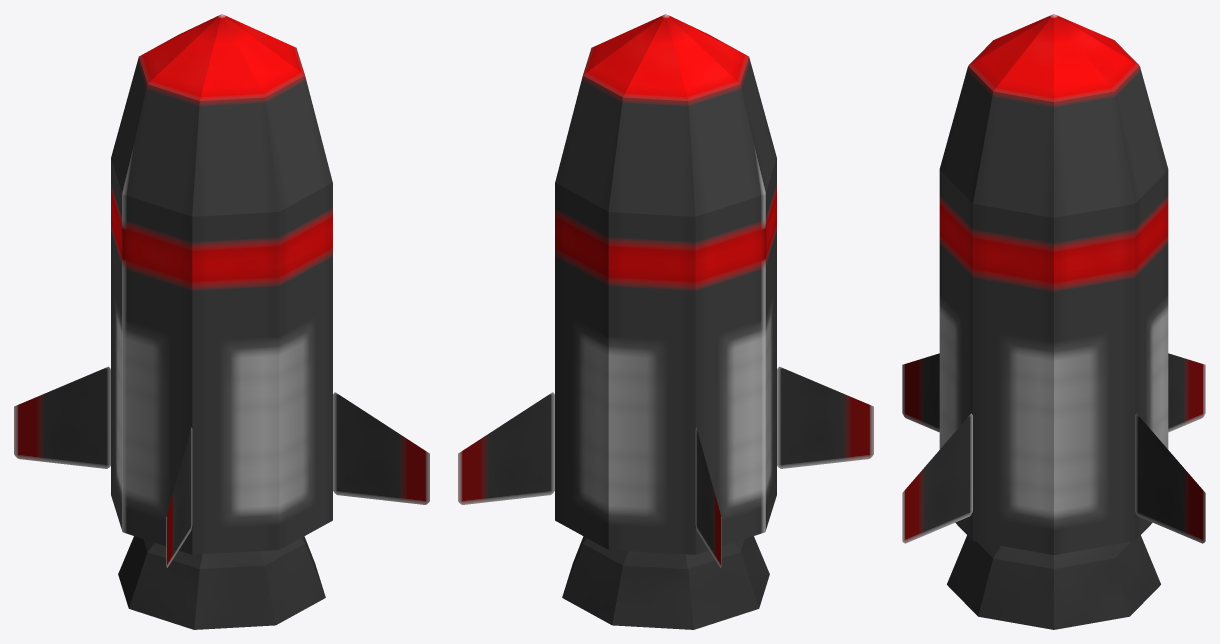
Rendered from miner_rocket.obj.
3 views of the same model, side by side, from view 1: azimuth 30°, elevation 25°; view 2: azimuth 150°, elevation 25°; view 3: azimuth 270°, elevation 25° (orthographic).
Visible parts, largest first — view 1: Cylinder; view 2: Cylinder; view 3: Cylinder.
Boxes of the visible parts, bbox=[...] form: Cylinder: bbox=[14, 14, 429, 629]; Cylinder: bbox=[458, 14, 873, 629]; Cylinder: bbox=[902, 14, 1205, 629].
Bounding box in the file's own units: 1.33 × 2.75 × 1.33.
